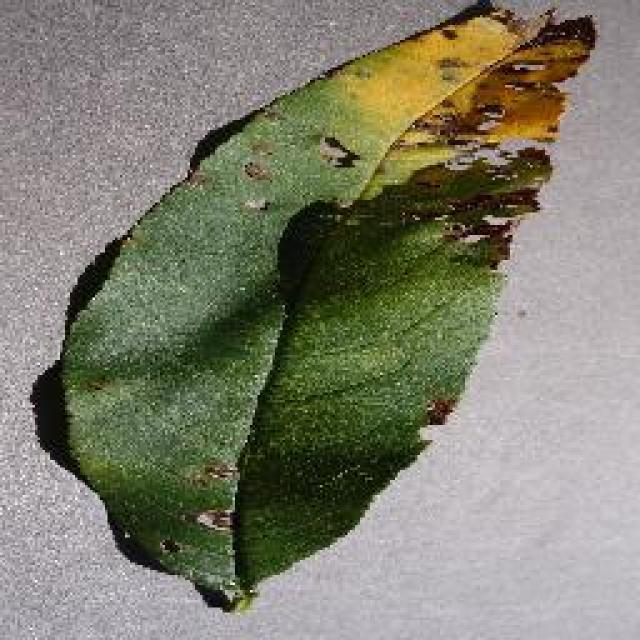Peach_Bacterial_Spot: (287, 20, 573, 262)
